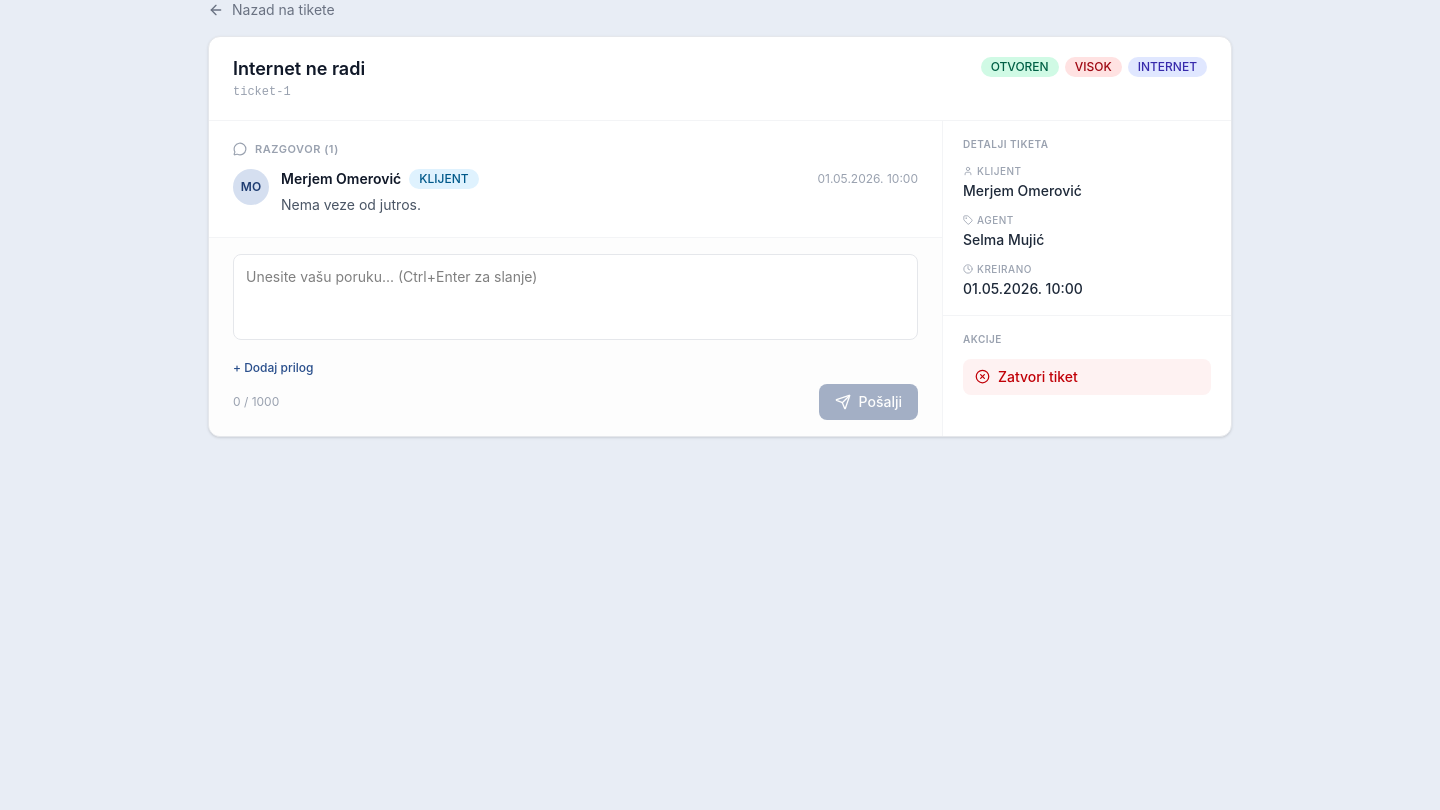
US-61: Ocjenjivanje tiketa › otvara modal automatski nakon što klijent zatvori tiket
The image size is (1440, 810).
Click the button "Zatvori tiket": (1087, 377) [963, 359, 1211, 395]
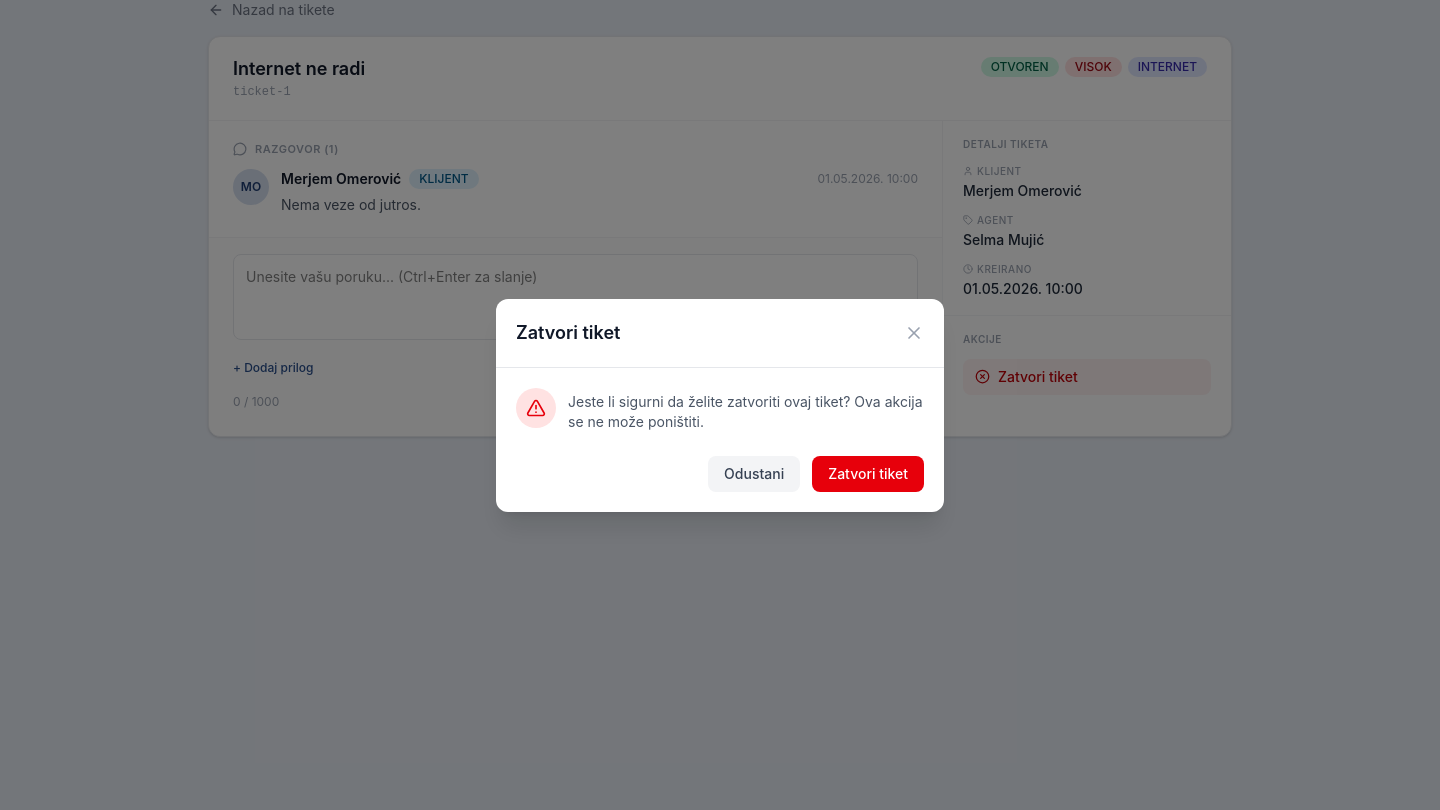
Click the button "Zatvori tiket": (868, 474) [812, 456, 924, 492]
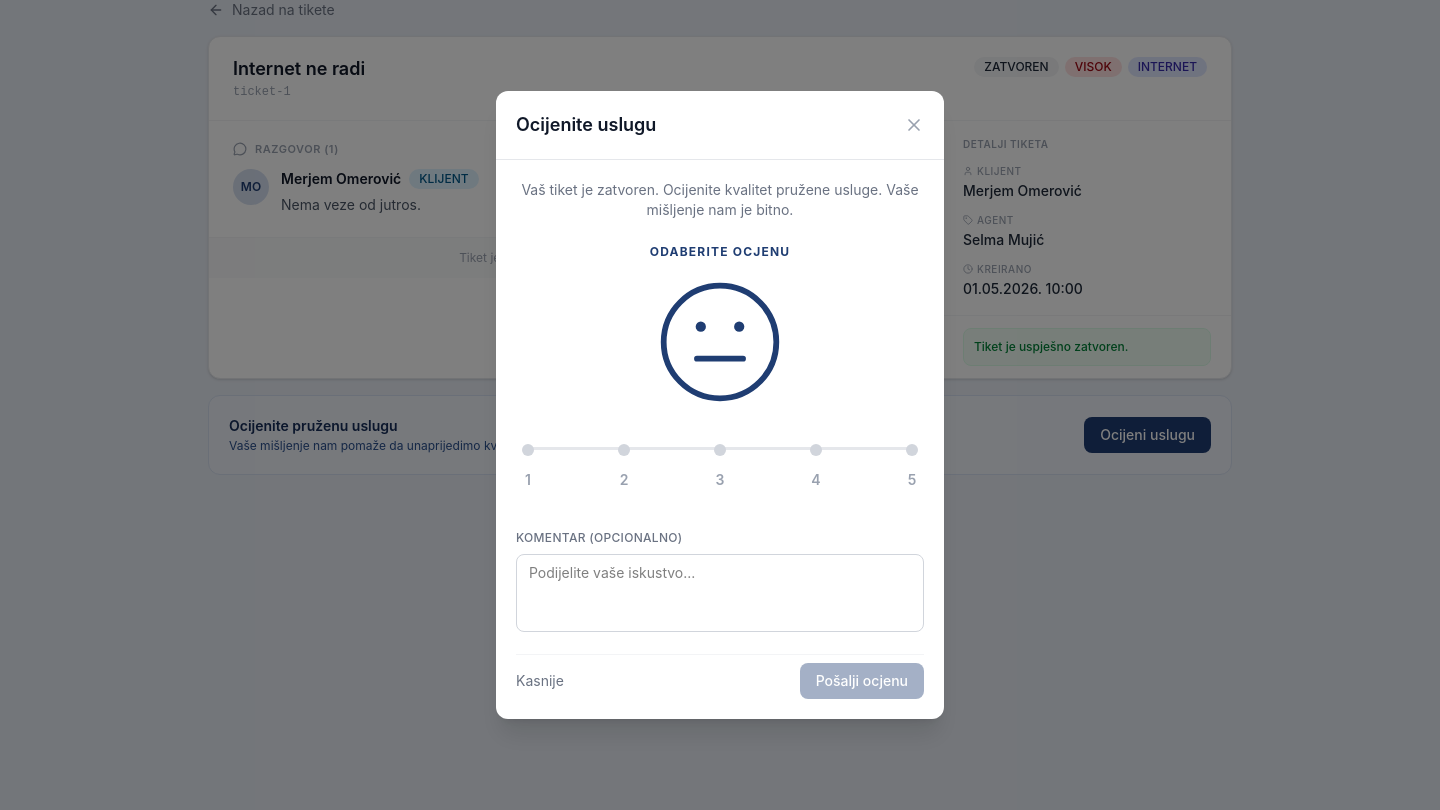
Expected: the heading "Ocijenite uslugu" is shown, [516, 111, 656, 139]
